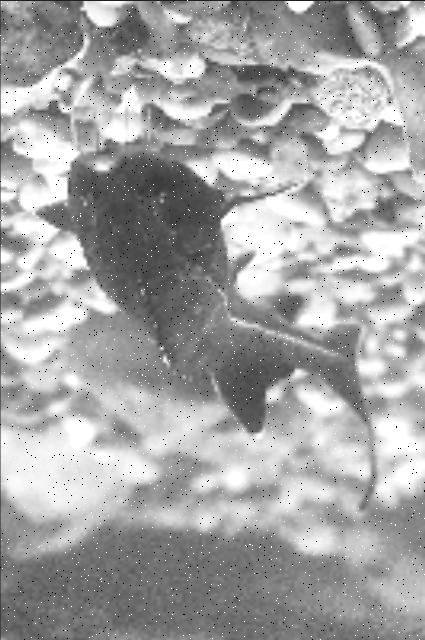Sirip Anal: (260, 276, 324, 336)
Sirip Dada: (209, 160, 311, 238), (25, 178, 89, 254)
Sirip Ekor: (307, 296, 401, 522)
Sirip Perut: (217, 242, 268, 294)
Sirip Punggung: (209, 358, 303, 448)
